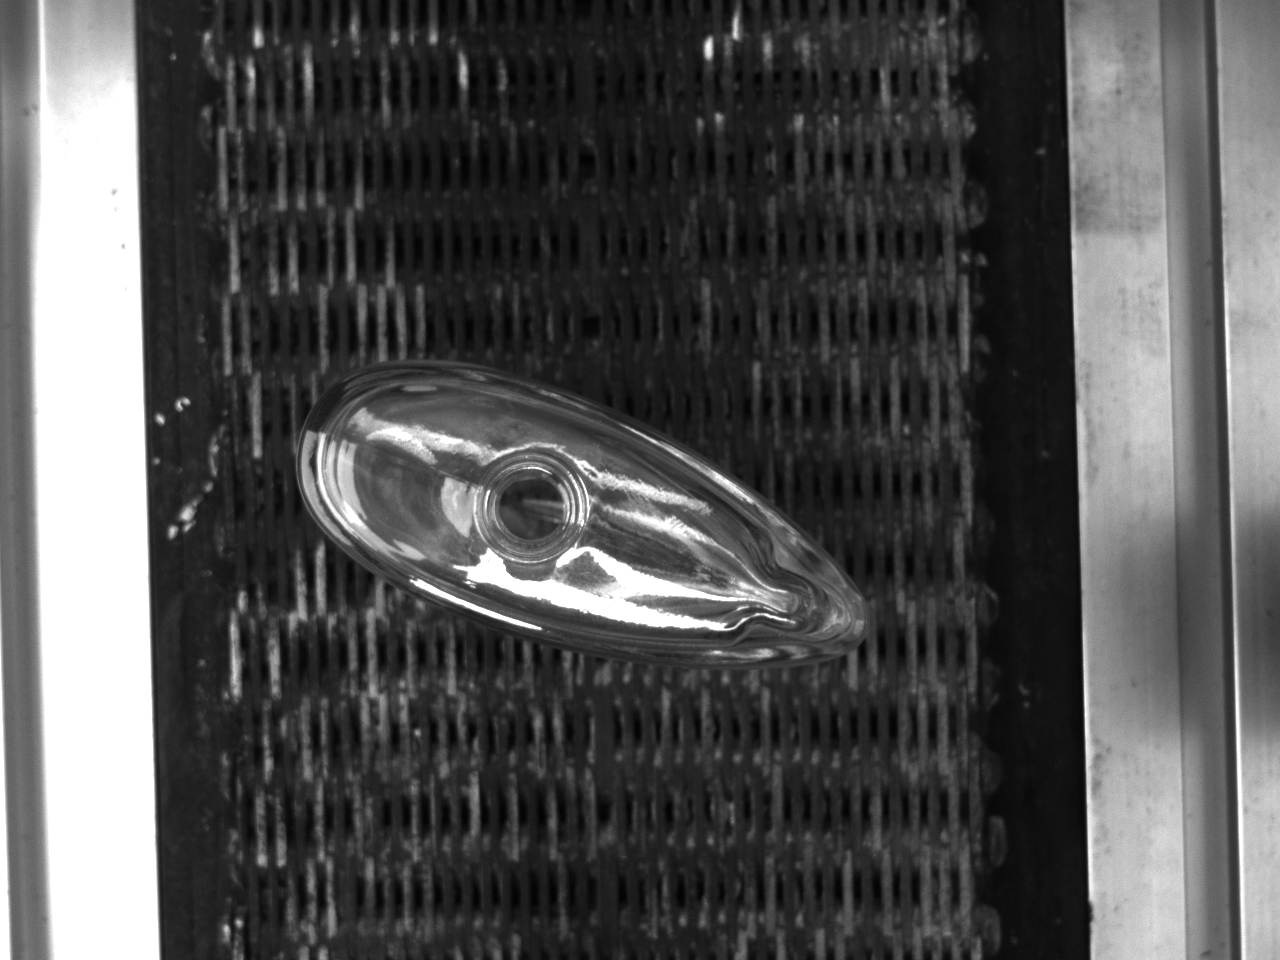bottleneck: (476, 450, 589, 562)
